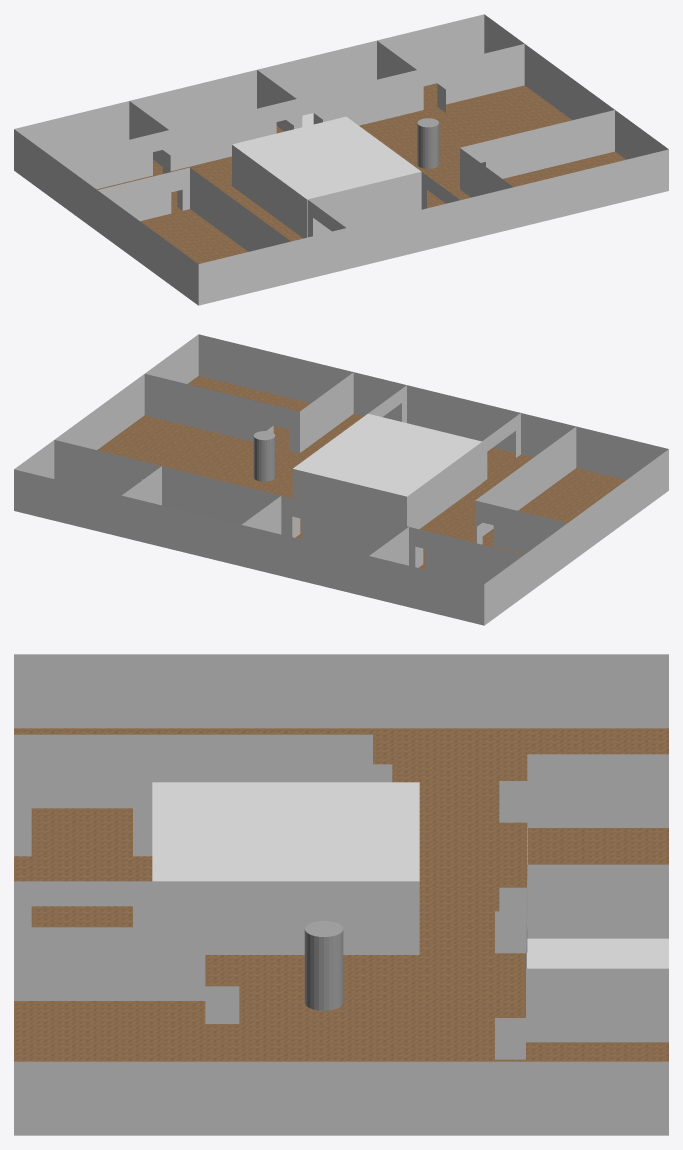
3 renders of one model, top to bottom at view 1: azimuth 30°, elevation 25°; view 2: azimuth 150°, elevation 25°; view 3: azimuth 270°, elevation 25°, orthographic. The views are drawn at different scales.
Parts seen in each view (by area): view 1: _(Loose Entity), C-aula01, C-aula06, C-toilets, C-pasillo, C-aula02, C-aula03, C-aula04, C-aula05; view 2: C-aula06, C-aula01, _(Loose Entity), C-toilets, C-aula02, C-pasillo, C-aula03, C-aula04, C-aula05; view 3: _(Loose Entity), C-pasillo, C-aula01, C-toilets, C-aula06, C-aula02, C-aula03, C-aula04, C-aula05.
Part boxes in pixels (x1,y1,x2,y2): _(Loose Entity): (53,44,614,282); C-aula01: (97,167,291,305); C-aula06: (460,110,668,228); C-toilets: (232,116,421,238); C-pasillo: (97,85,571,241); C-aula02: (14,101,169,199); C-aula03: (130,70,296,170); C-aula04: (257,40,417,128); C-aula05: (377,14,524,111); C-aula06: (144,334,353,452); C-aula01: (475,426,668,564); _(Loose Entity): (54,372,575,596); C-toilets: (292,413,482,529); C-aula02: (369,527,524,625); C-pasillo: (97,414,533,569); C-aula03: (241,495,408,597); C-aula04: (121,466,280,566); C-aula05: (14,440,161,536); _(Loose Entity): (14,654,527,1135); C-pasillo: (31,728,527,1061); C-aula01: (14,654,372,808); C-toilets: (152,782,419,954); C-aula06: (14,927,205,1135); C-aula02: (527,654,668,827); C-aula03: (527,828,668,938); C-aula04: (526,879,668,1042); C-aula05: (526,1042,668,1135).
Size of the model in its own units: 159 by 13.43 by 108.
3 materials, 1 textured.
